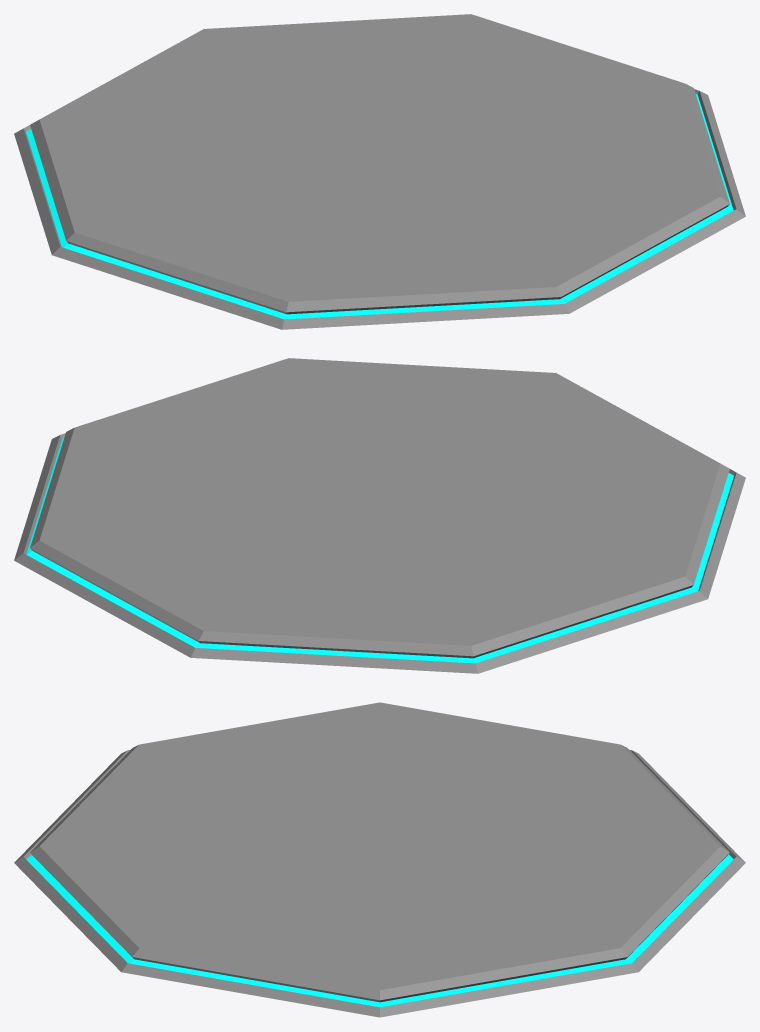
The model's file is ramp 1.FBX.
3 renders of one model, top to bottom at view 1: azimuth 30°, elevation 25°; view 2: azimuth 150°, elevation 25°; view 3: azimuth 270°, elevation 25°, orthographic. The views are drawn at different scales.
Visible parts, largest first — view 1: Garage_B_Stage_Hexagonal, Garage_B_Stage_Hexagonal_SI; view 2: Garage_B_Stage_Hexagonal, Garage_B_Stage_Hexagonal_SI; view 3: Garage_B_Stage_Hexagonal, Garage_B_Stage_Hexagonal_SI.
Part boxes in pixels (left/top/right/bottom): Garage_B_Stage_Hexagonal: left=14, top=14, right=745, bottom=329; Garage_B_Stage_Hexagonal_SI: left=26, top=94, right=733, bottom=319; Garage_B_Stage_Hexagonal: left=14, top=358, right=745, bottom=673; Garage_B_Stage_Hexagonal_SI: left=26, top=438, right=733, bottom=663; Garage_B_Stage_Hexagonal: left=14, top=702, right=745, bottom=1017; Garage_B_Stage_Hexagonal_SI: left=26, top=854, right=733, bottom=1007.
Size of the model in its own units: 610 by 15.24 by 610.
